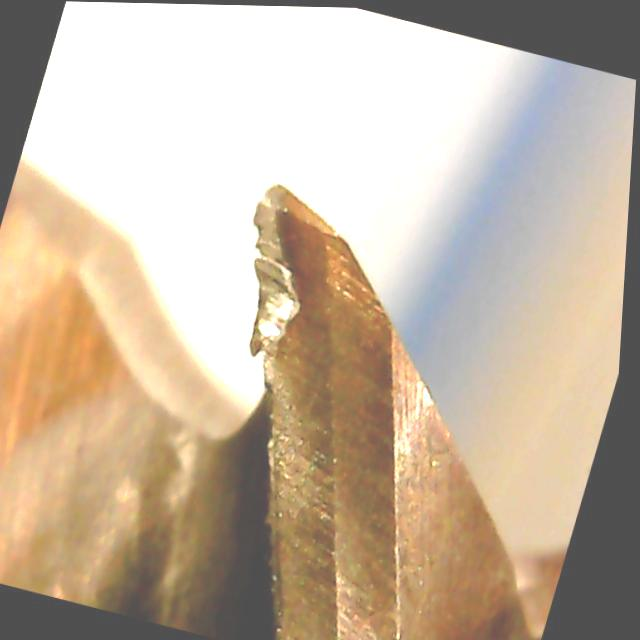Tool-wear-class-2: (182, 163, 426, 458)
